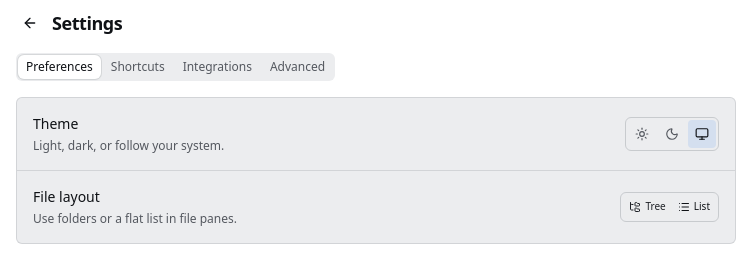
Scenario: opens on preferences and reads integrations and the settings path only when requested
Expected: the heading "Theme" is shown, [33,114,78,133]
Expected: the element "Agent connection" is not shown
Press the mouse on the tab "Integrations" at (217, 67), box [175,55,260,79]
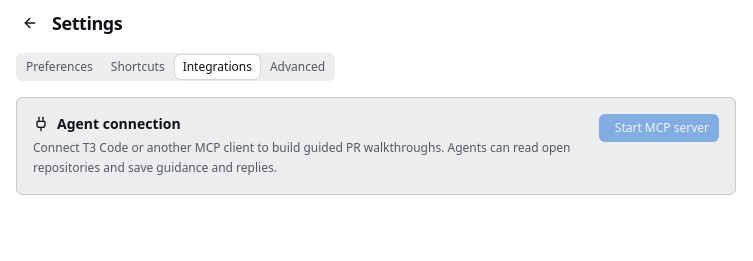
Expected: the button "Start MCP server" is shown, [599,114,719,142]
Press the mouse on the tab "Advanced" at (298, 67), box [262,55,333,79]
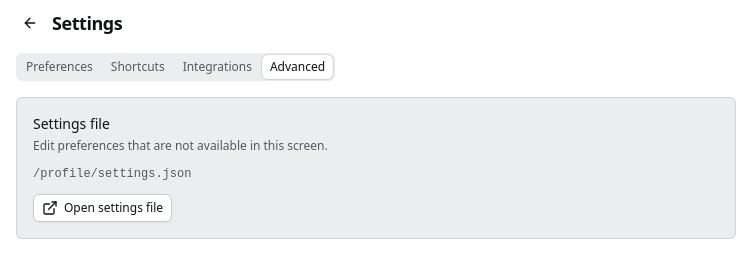
Expected: the text "/profile/settings.json" is shown, [33,167,191,181]
